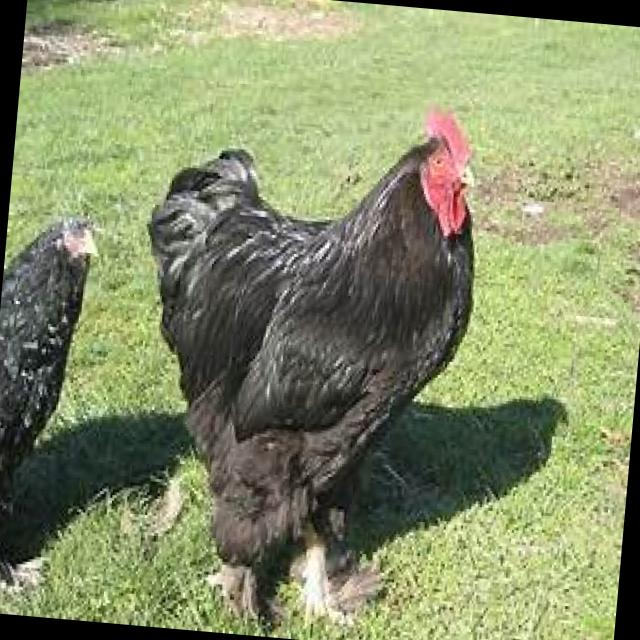chicken: (141, 76, 521, 628), (0, 172, 133, 584)
